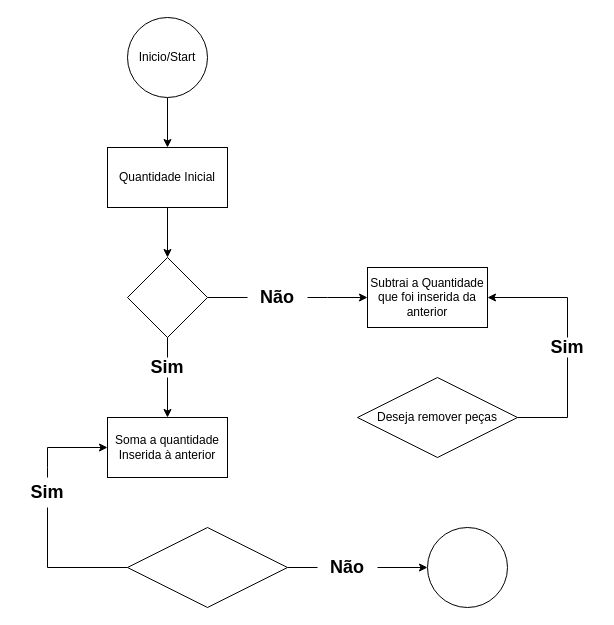
Some shapes in this 614 by 625 pixel diagram are drawn without their labels. Here are the shapes that lost their labels. From the top down, the centre of each, then its label:
pixel 167 297: Peças para entrada?
pixel 207 567: Deseja inserir mais peças
pixel 467 567: Fim
